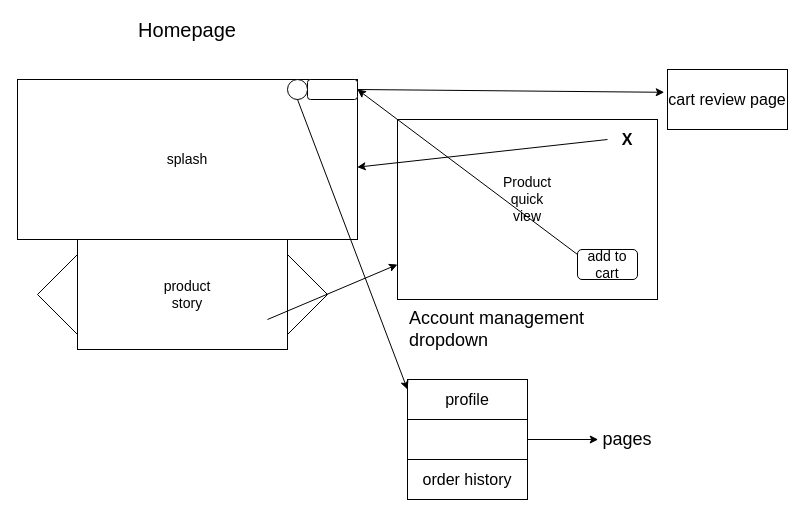
Some shapes in this 805 by 517 pixel diagram are drawn without their labels. The centre of each missing label's shape, as x and y in pixels:
"cart" goes at point (332, 89).
"payment methods" goes at point (467, 439).
